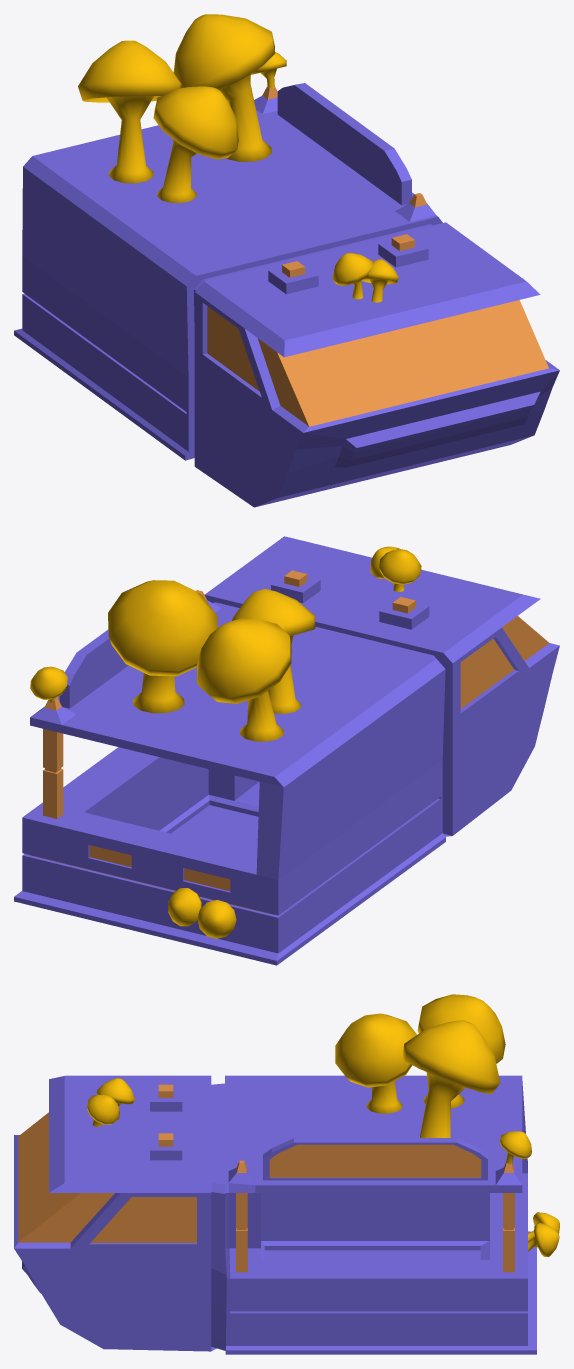
Rendered from CyberTruck.fbx.
3 renders of one model, top to bottom at view 1: azimuth 30°, elevation 25°; view 2: azimuth 150°, elevation 25°; view 3: azimuth 270°, elevation 25°, orthographic. The views are drawn at different scales.
Parts seen in each view (by area): view 1: HoverTruck; view 2: HoverTruck; view 3: HoverTruck.
Boxes of the visible parts, x1,y1,x2,y2 form: HoverTruck: (14, 14, 559, 507); HoverTruck: (14, 536, 559, 965); HoverTruck: (14, 994, 559, 1354).
Bounding box in the file's own units: 563 × 645 × 1101.
